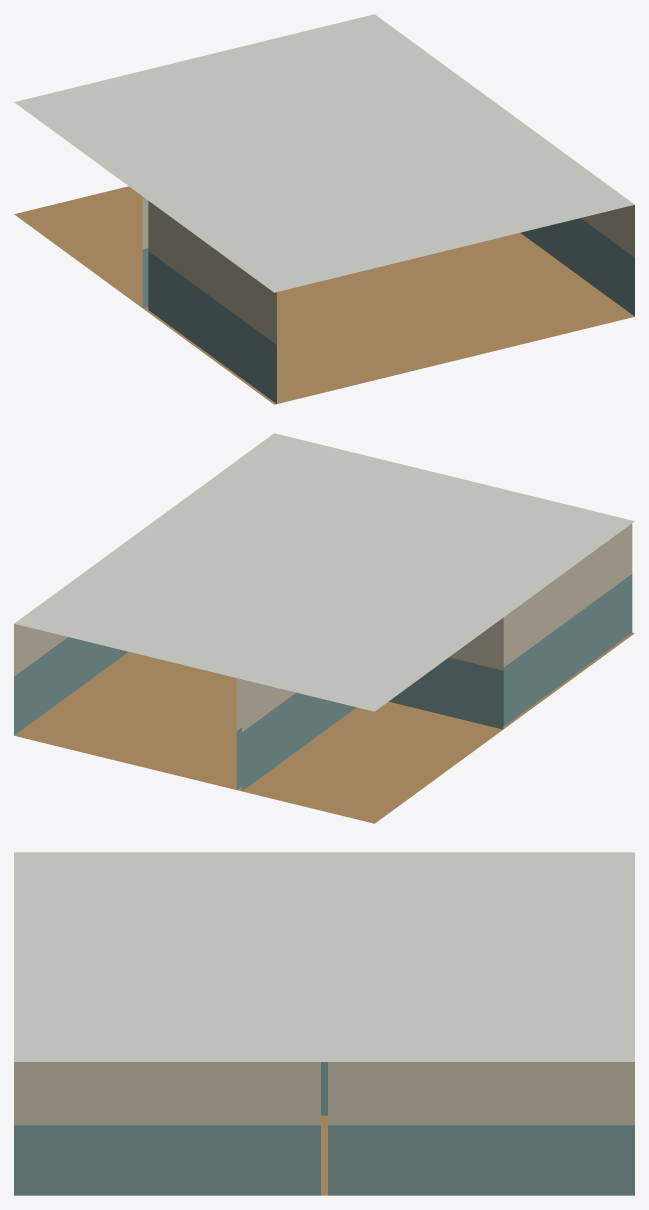
File: chunk_4_1.glb
The picture shows the model from 3 angles, top to bottom: view 1: azimuth 30°, elevation 25°; view 2: azimuth 150°, elevation 25°; view 3: azimuth 270°, elevation 25°; orthographic projection. The views are drawn at different scales.
Parts seen in each view (by area): view 1: chunk_4_1; view 2: chunk_4_1; view 3: chunk_4_1.
Part boxes in pixels (<box>): chunk_4_1: <box>14,14,634,404</box>; chunk_4_1: <box>14,433,634,823</box>; chunk_4_1: <box>14,852,634,1195</box>.
Bounding box in the file's own units: 9.6 × 2.85 × 12.
